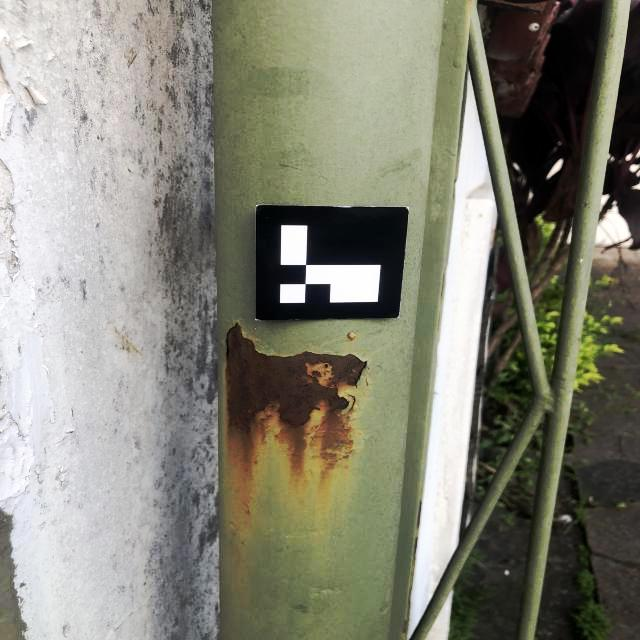Corrosion: (224, 323, 370, 468), (412, 500, 423, 557), (346, 331, 357, 340), (402, 620, 408, 634)
